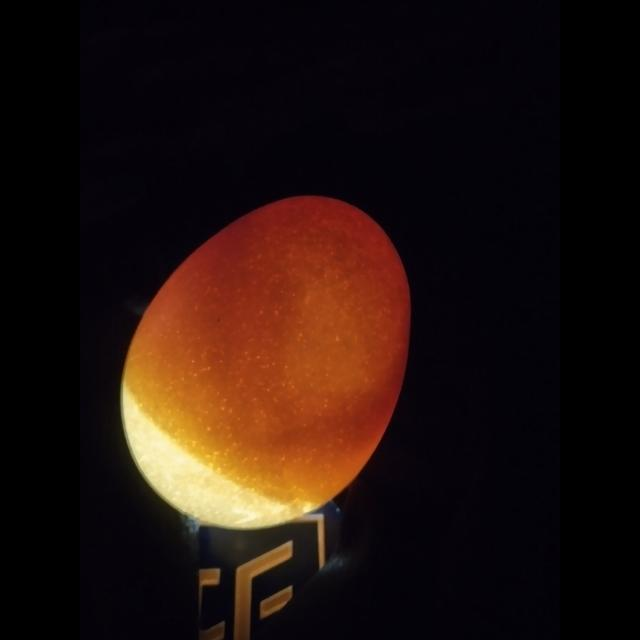Infertile: (115, 195, 419, 522)
